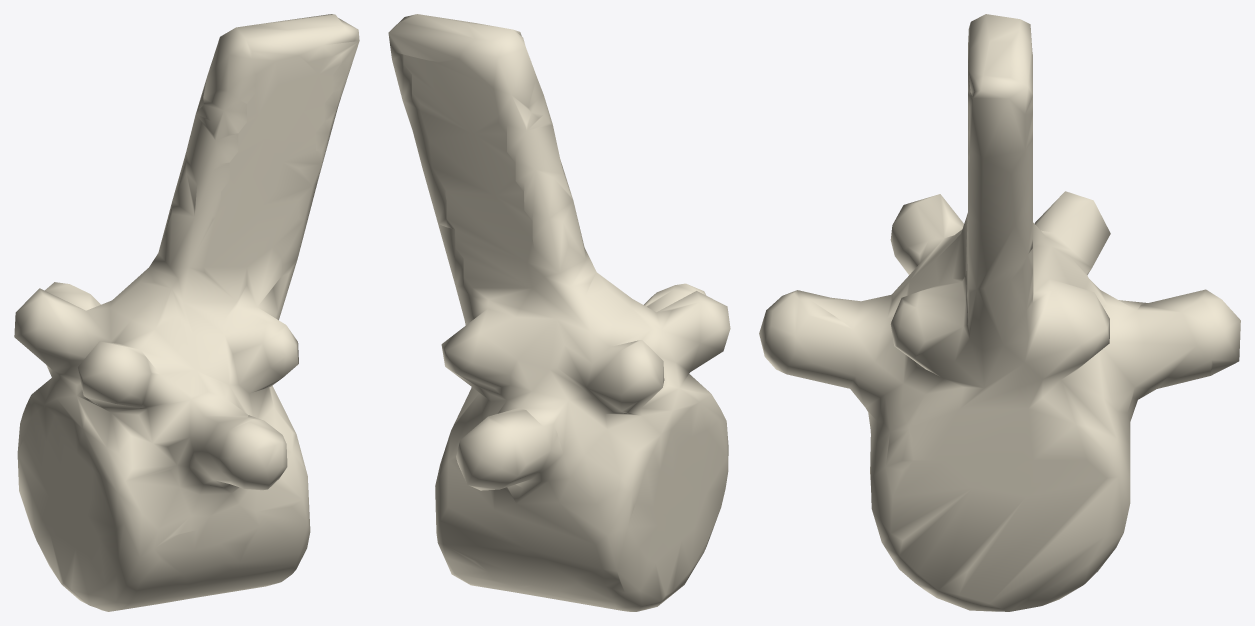
File: thoracic_13.glb
3 views of the same model, side by side, from view 1: azimuth 30°, elevation 25°; view 2: azimuth 150°, elevation 25°; view 3: azimuth 270°, elevation 25° (orthographic). The views are drawn at different scales.
Parts seen in each view (by area): view 1: geometry_0; view 2: geometry_0; view 3: geometry_0.
Boxes of the visible parts, x1,y1,x2,y2 form: geometry_0: [14, 14, 359, 611]; geometry_0: [388, 14, 730, 611]; geometry_0: [759, 14, 1240, 611].
Size of the model in its own units: 0.141 by 0.2418 by 0.1777.
